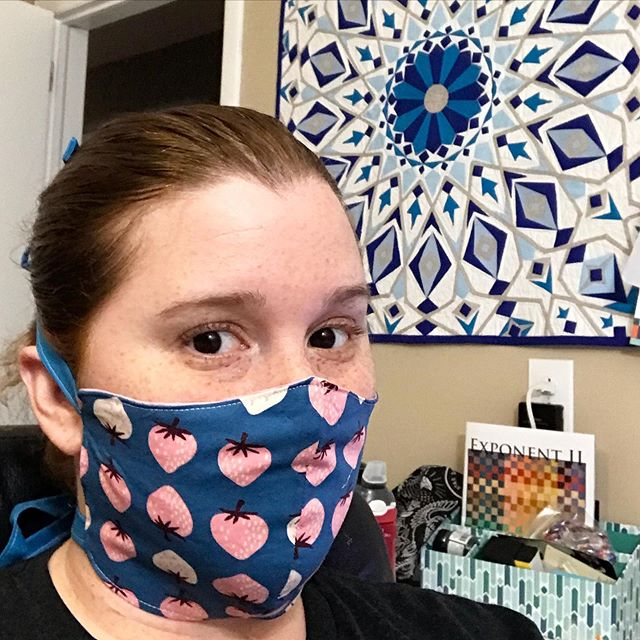homemade: (49, 366, 395, 619)
